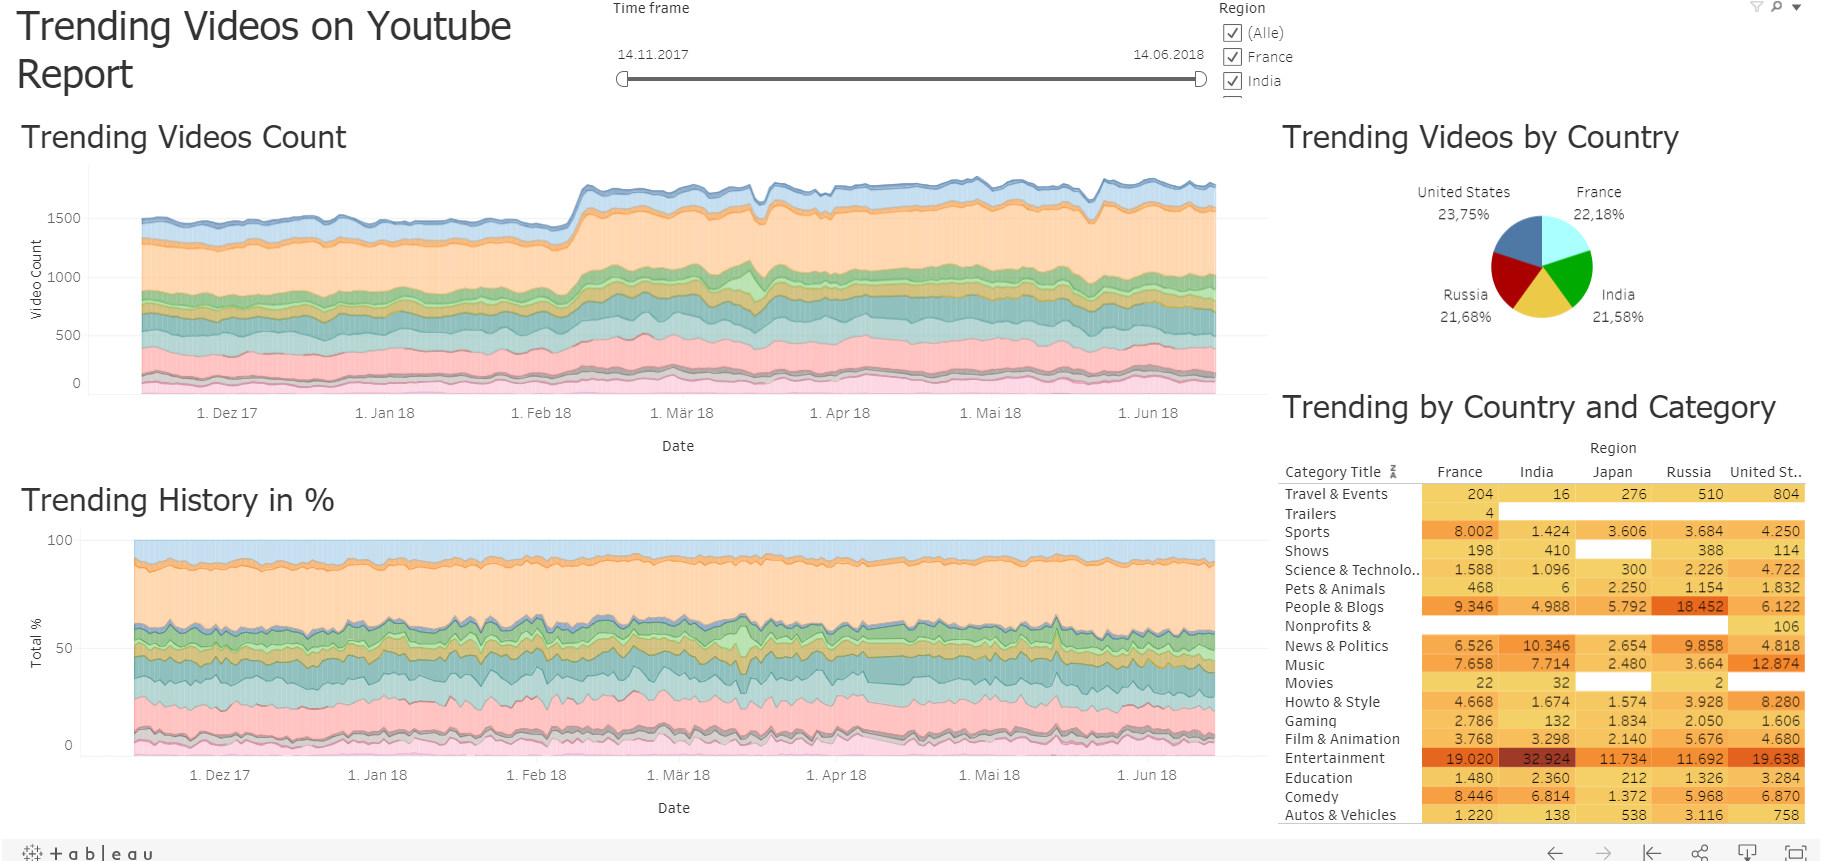

Layout of this report page (visuals, bound fields, positions):
{"tool":"tableau","page":{"name":"Summary","canvas":[1000,1000],"units":"permille","ordinal":0},"visuals":[{"type":"title","box":[4.9,8.5,328.4,130.3]},{"type":"filter","title":"Trending Videos in %","param":"[federated.03c0lea1a09kr91gpl61k1fzl8it].[none:trending_date:qk]","box":[333.3,8.5,333.3,130.3]},{"type":"filter","title":"Trending Videos in %","param":"[federated.03c0lea1a09kr91gpl61k1fzl8it].[none:region:nk]","box":[666.7,8.5,328.5,130.3]},{"type":"worksheet","title":"Trending Videos Count","mark":"Area","rows":["videos_count"],"cols":["trending_date"],"box":[4.9,138.8,609.5,426.4]},{"type":"worksheet","title":"Trending Videos by Country","mark":"Pie","box":[614.4,138.8,380.8,278.6]},{"type":"worksheet","title":"Trending by Country and Category","mark":"Square","rows":["category_title"],"cols":["region"],"box":[614.4,417.4,380.8,574.2]},{"type":"worksheet","title":"Trending Videos in %","mark":"Area","cols":["trending_date"],"box":[4.9,565.1,609.5,426.4]}]}

Visuals, with their boxes on the dashboard's canvas, which has no fixed pixel size, in thousandths of its width and height (x1, y1, x2, y2). These are canvas units, not pixel positions in the 1822x861 screenshot, which may show the page scaled, cropped or inside an application window:
title: box=[5, 8, 333, 139]
"Trending Videos in %" filter: box=[333, 8, 667, 139]
"Trending Videos in %" filter: box=[667, 8, 995, 139]
"Trending Videos Count" worksheet (Area marks): box=[5, 139, 614, 565]
"Trending Videos by Country" worksheet (Pie marks): box=[614, 139, 995, 417]
"Trending by Country and Category" worksheet (Square marks): box=[614, 417, 995, 992]
"Trending Videos in %" worksheet (Area marks): box=[5, 565, 614, 992]
